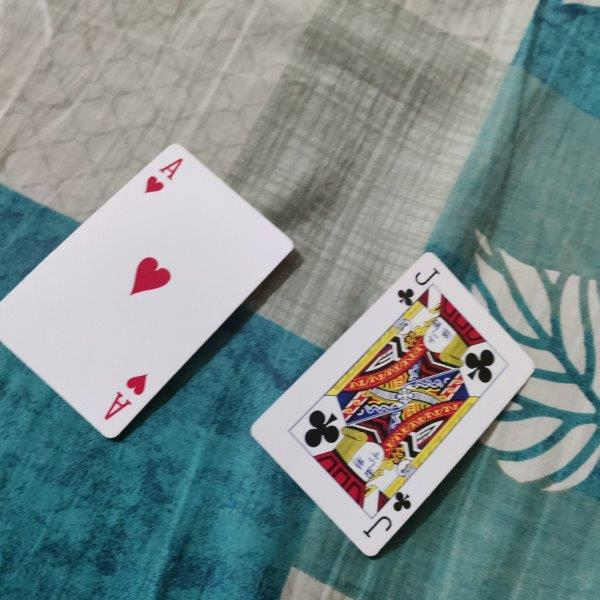Ace of Hearts: (1, 142, 294, 439)
Jack of Clubs: (248, 251, 537, 559)
